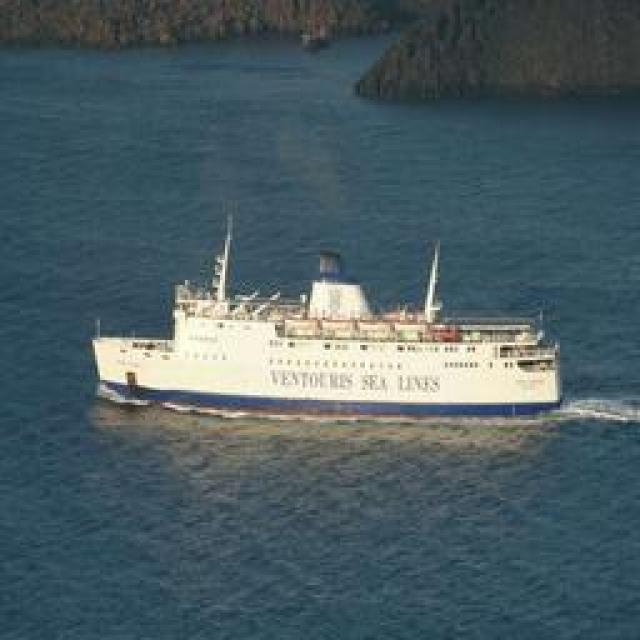CIV_Ship: (95, 222, 563, 422)
